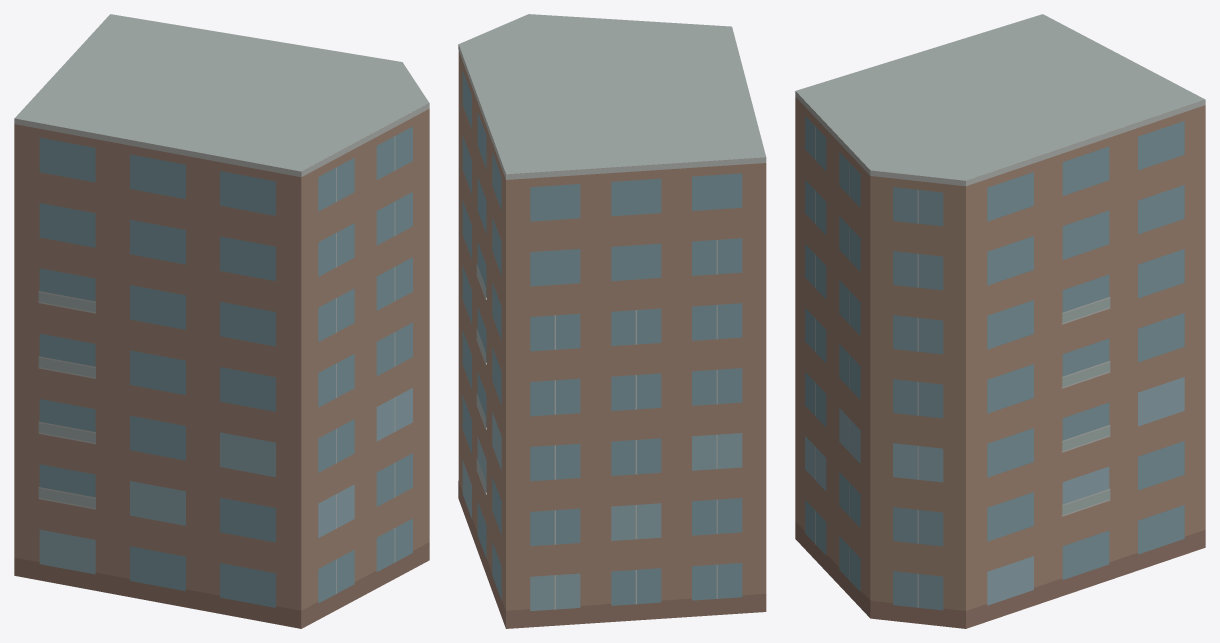
Rendered from survey-upis-32857950.glb.
The picture shows the model from 3 angles, left to right: view 1: azimuth 30°, elevation 25°; view 2: azimuth 150°, elevation 25°; view 3: azimuth 270°, elevation 25°; orthographic projection. The views are drawn at different scales.
Visible parts, largest first — view 1: survey-upis-32857950.tmp; view 2: survey-upis-32857950.tmp; view 3: survey-upis-32857950.tmp.
Boxes of the visible parts, box(x1,y1,x2,y2) form: survey-upis-32857950.tmp: box(14, 14, 429, 628); survey-upis-32857950.tmp: box(458, 14, 766, 628); survey-upis-32857950.tmp: box(795, 14, 1205, 628).
Size of the model in its own units: 15.82 by 19.8 by 16.43.
